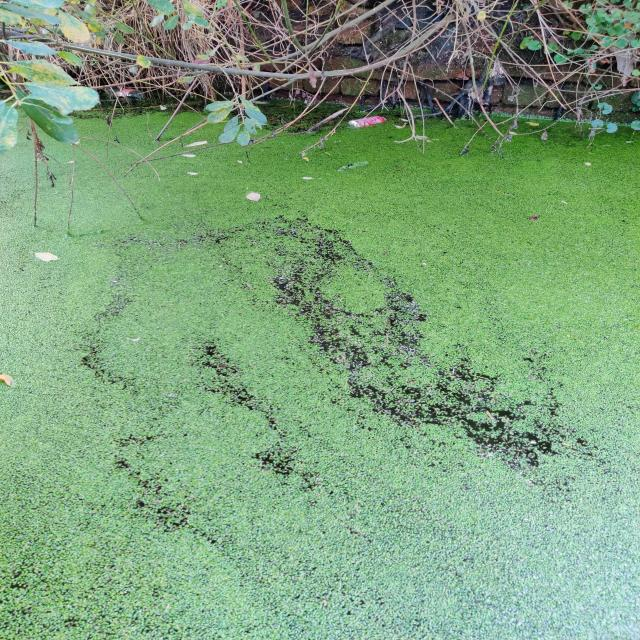litter: (348, 116, 386, 127), (116, 89, 145, 98)
